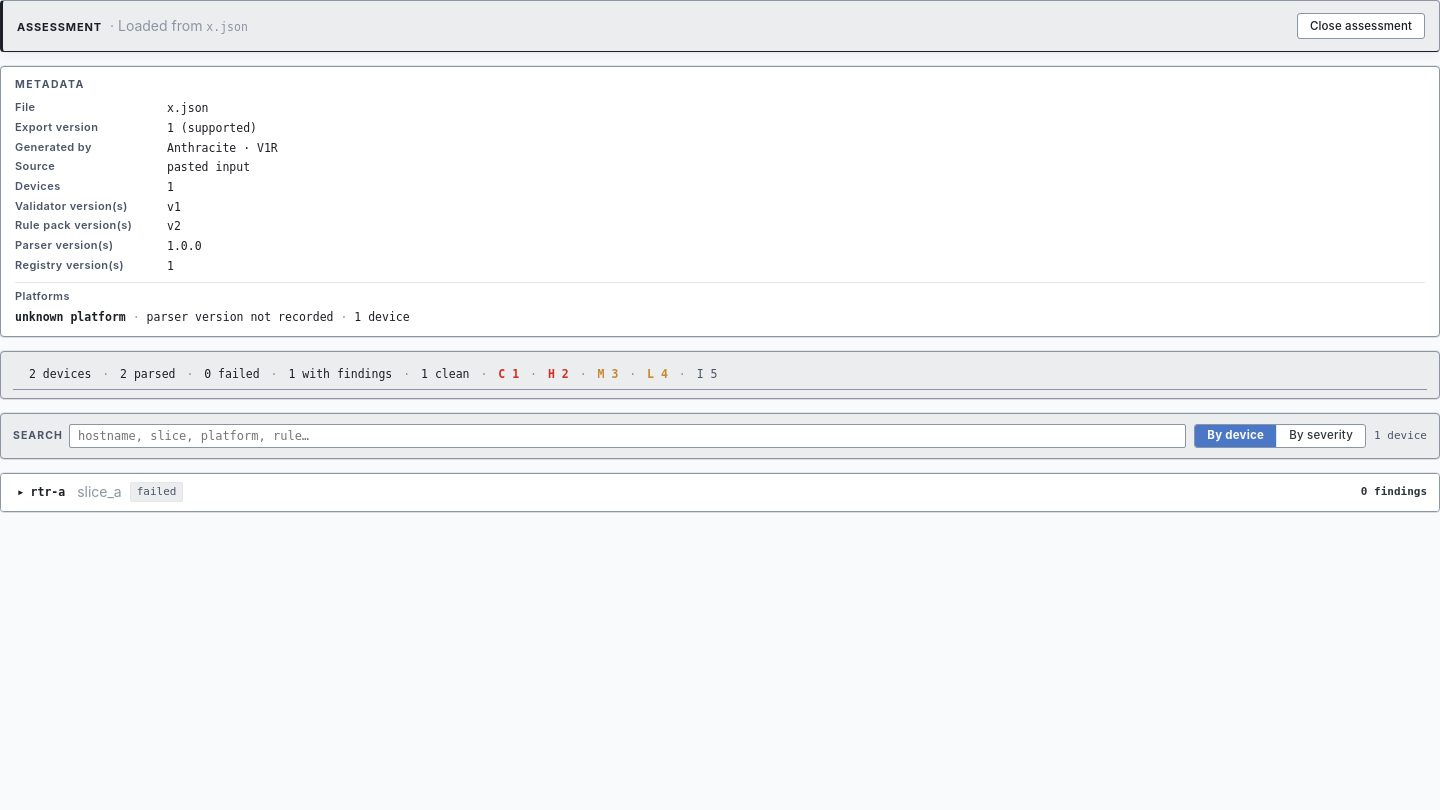
Test: AssessLoadedView › renders a no-report placeholder for devices missing validation_report (after expand)
The width and height of the screenshot is (1440, 810).
// V1X collapses non-findings devices by default — expand it.
Click the button "▸ rtr-a": click(41, 492) 13,482 -> 69,501
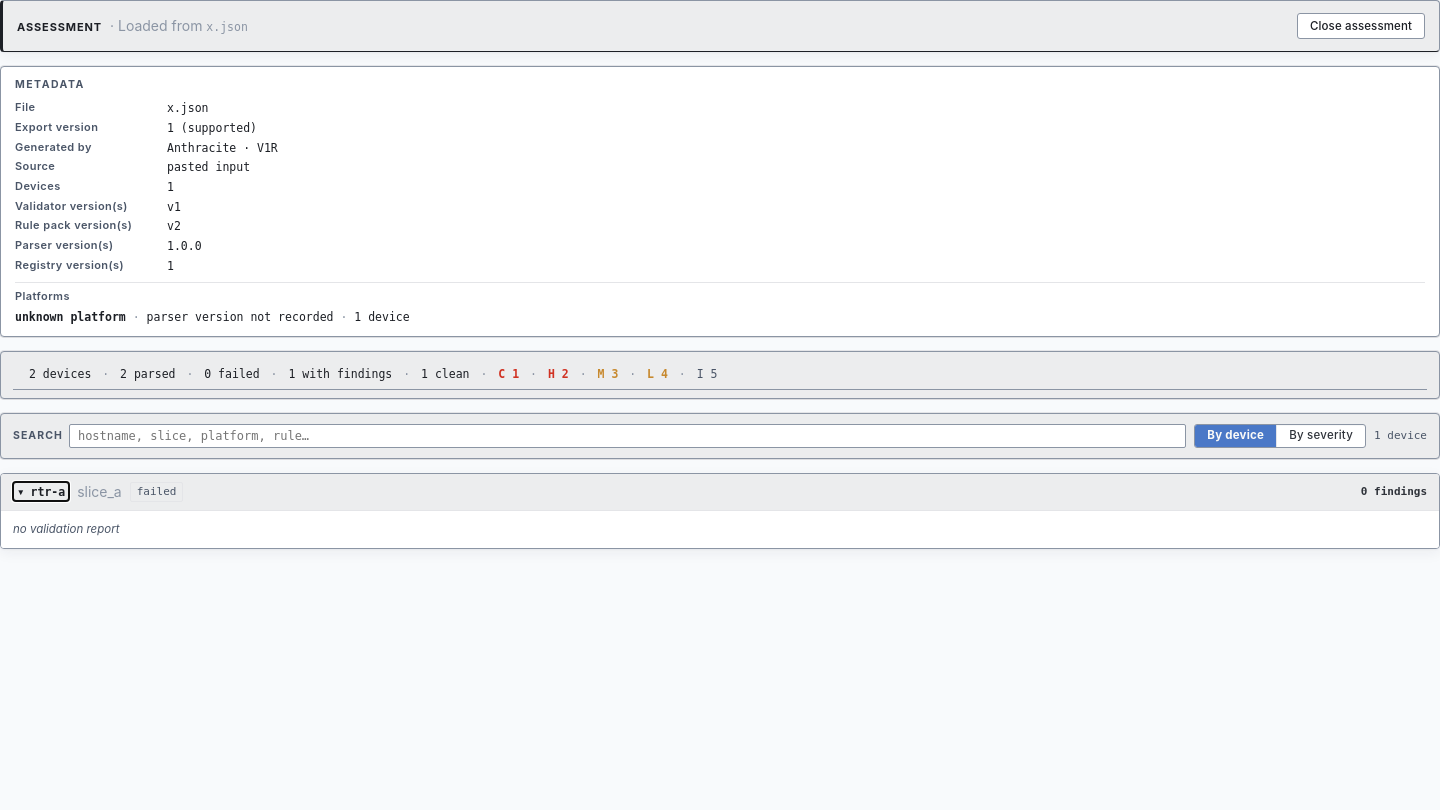
Expected: the text "no validation report" is shown, 13,522 -> 119,536
